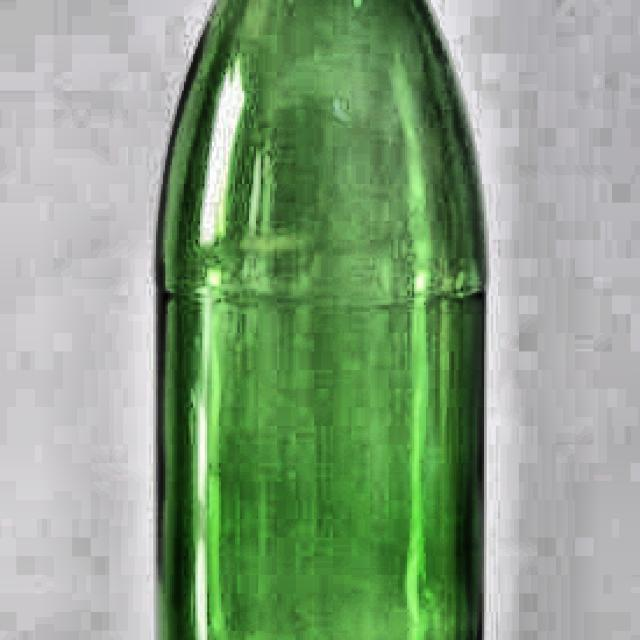glass: (150, 0, 488, 640)
